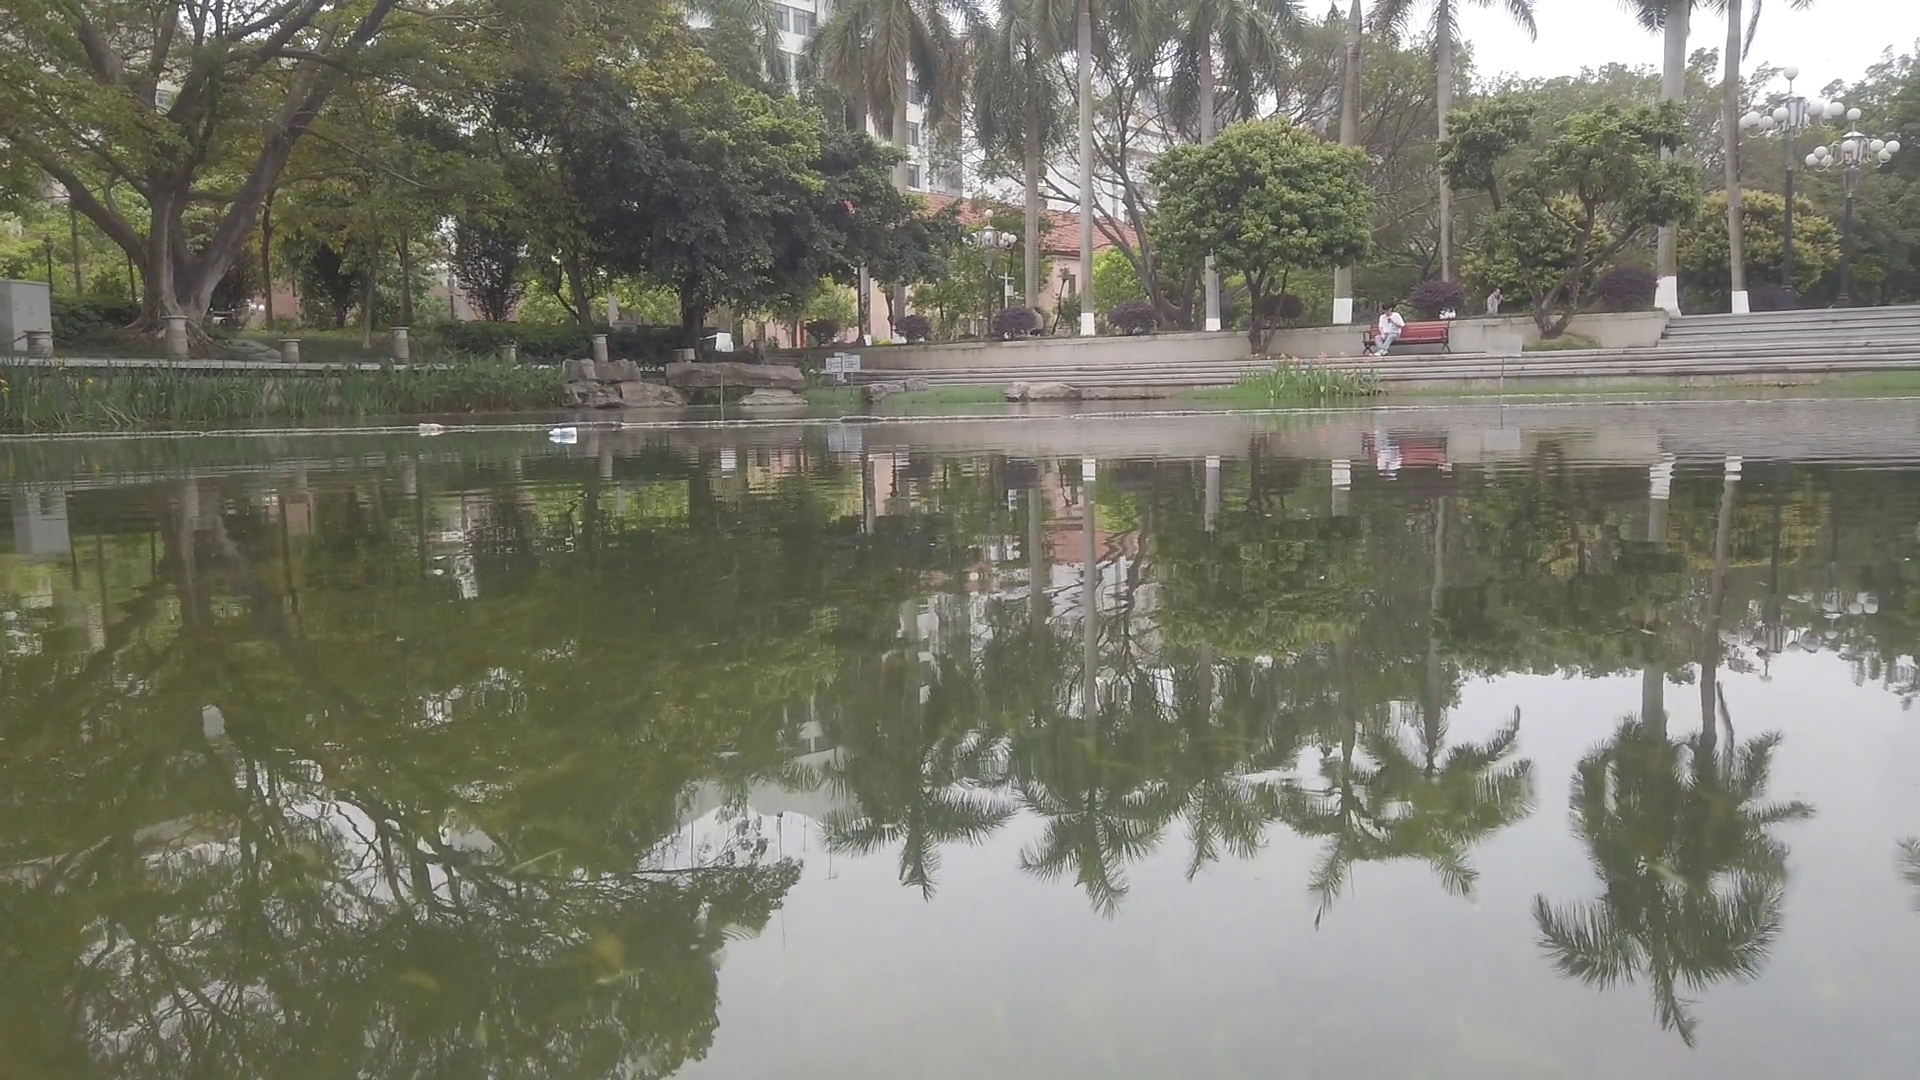bottle: (417, 422, 447, 433), (547, 429, 578, 436)
